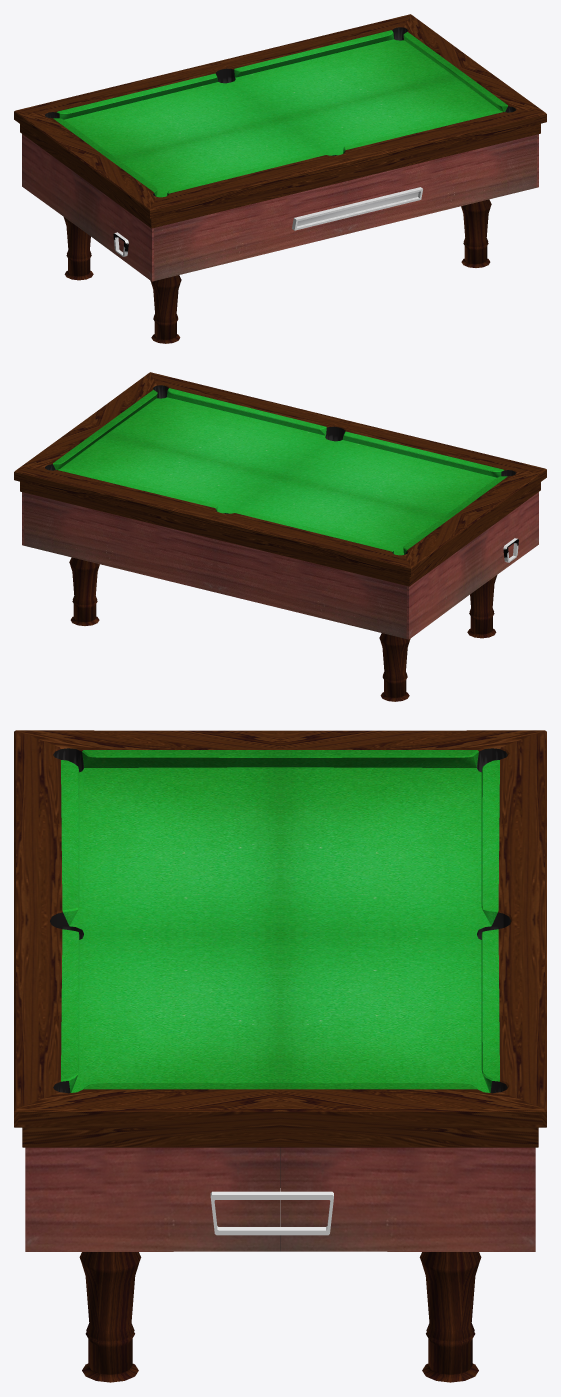
The model's file is pool_table_002.glb.
3 views of the same model, one above another, from view 1: azimuth 30°, elevation 25°; view 2: azimuth 150°, elevation 25°; view 3: azimuth 270°, elevation 25° (orthographic). The views are drawn at different scales.
Parts seen in each view (by area): view 1: Table (Core)002; view 2: Table (Core)002; view 3: Table (Core)002.
Part boxes in pixels (x1,y1,x2,y2): Table (Core)002: (14, 14, 546, 343); Table (Core)002: (14, 372, 546, 701); Table (Core)002: (14, 730, 546, 1382).
Bounding box in the file's own units: 224 × 84.02 × 133.
5 materials, 4 textured.
